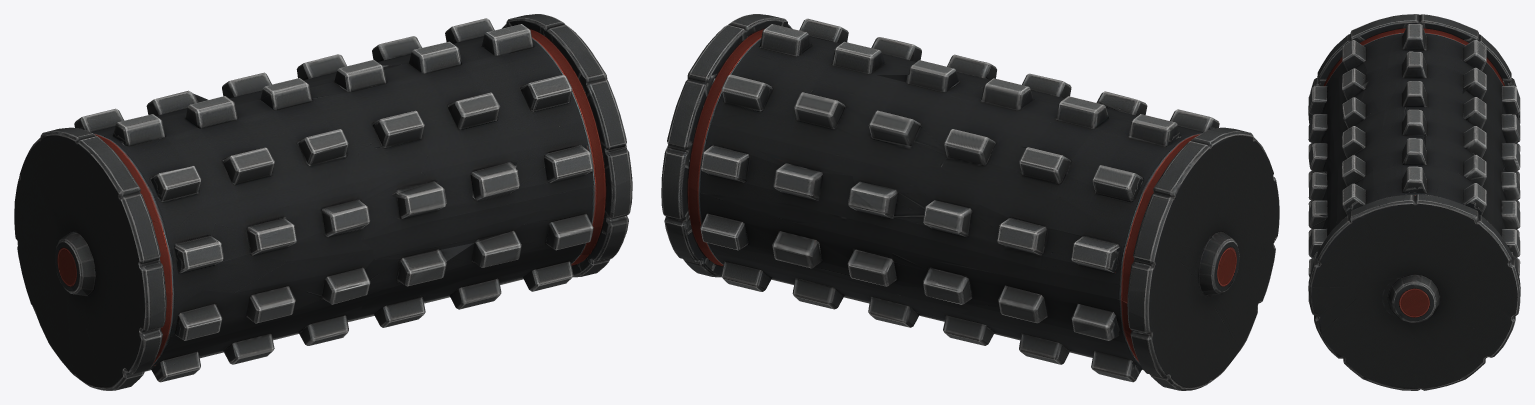
The model's file is drum_spinner.glb.
The picture shows the model from 3 angles, left to right: view 1: azimuth 30°, elevation 25°; view 2: azimuth 150°, elevation 25°; view 3: azimuth 270°, elevation 25°; orthographic projection. The views are drawn at different scales.
Visible parts, largest first — view 1: output_unwrapped; view 2: output_unwrapped; view 3: output_unwrapped.
Part boxes in pixels (x1,y1,x2,y2): output_unwrapped: (14, 14, 632, 390); output_unwrapped: (661, 14, 1279, 390); output_unwrapped: (1308, 14, 1520, 390).
Bounding box in the file's own units: 1.9 × 0.883 × 0.8603.
Materials: 1 (1 with a texture image).
